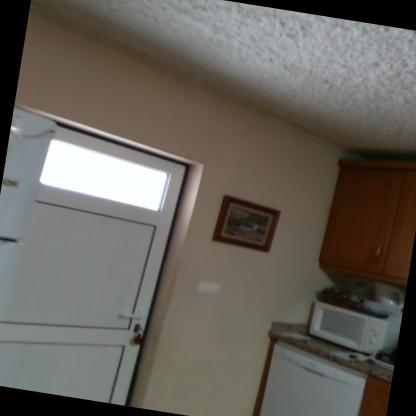closed: (0, 107, 227, 407)
